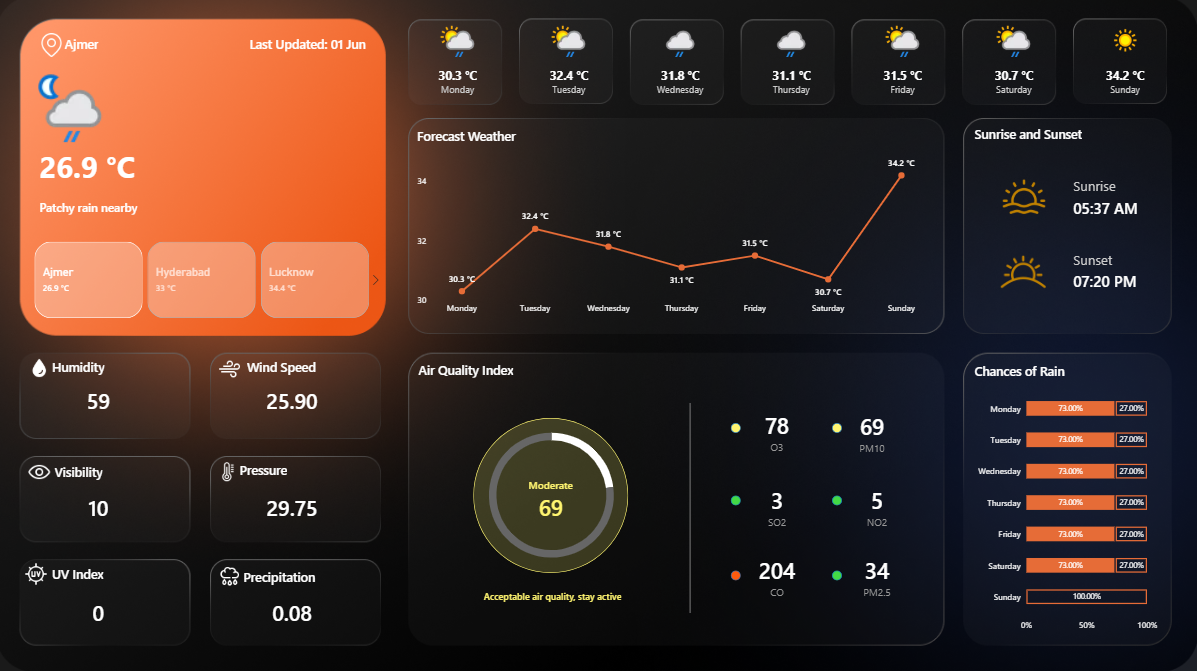

Layout of this report page (visuals, bound fields, positions):
{"tool":"powerbi","page":{"name":"Page 1","canvas":[1920,1080],"ordinal":0},"visuals":[{"type":"shape","box":[762,671,248,248],"z":0},{"type":"advancedSlicerVisual","fields":{"Values":["Location.location.name"]},"box":[40,390,576,122],"z":1000},{"type":"shape","box":[68,234,270,68],"z":2000},{"type":"shape","box":[68,302,472,64],"z":3000},{"type":"shape","box":[108,40,200,64],"z":4000},{"type":"shape","box":[354,40,236,64],"z":5000},{"type":"image","box":[68,40,38,70],"z":6000},{"type":"cardVisual","fields":{"Data":["Min(current.current.condition.icon)"]},"box":[40,86,186,182],"z":7000},{"type":"image","box":[40,737,55,41],"z":8000},{"type":"image","box":[354.4,734.8,31,48],"z":9000},{"type":"shape","box":[92,733,116,48],"z":10000},{"type":"image","box":[354,906.2,37,38],"z":11000},{"type":"image","box":[51,569,31,44],"z":12000},{"type":"image","box":[354,561,36,63],"z":13000},{"type":"image","box":[44.7,900.7,36.7,42.7],"z":14000},{"type":"shape","box":[87,896,116,48],"z":15000},{"type":"shape","box":[400,565,116,48],"z":16000},{"type":"shape","box":[87,565,116,48],"z":17000},{"type":"shape","box":[388.8,730.8,116,48],"z":18000},{"type":"shape","box":[394,901.4,116,48],"z":19000},{"type":"cardVisual","fields":{"Data":["Sum(current.current.humidity)"]},"box":[107.1,602.9,108.6,82.9],"z":20000},{"type":"cardVisual","fields":{"Data":["Sum(current.current.vis_km)"]},"box":[107.1,771.4,108.6,82.9],"z":21000},{"type":"cardVisual","fields":{"Data":["Sum(current.current.pressure_in)"]},"box":[417.1,771.4,108.6,82.9],"z":22000},{"type":"cardVisual","fields":{"Data":["Sum(current.current.wind_kph)"]},"box":[417.1,602.9,108.6,82.9],"z":23000},{"type":"cardVisual","fields":{"Data":["Sum(current.current.uv)"]},"box":[107.1,939,108.6,82.9],"z":24000},{"type":"cardVisual","fields":{"Data":["Sum(current.current.precip_mm)"]},"box":[417.1,939,108.6,82.9],"z":25000},{"type":"advancedSlicerVisual","fields":{"Values":["forecast_day.Day_Name"]},"box":[655,40,1233.3,125],"z":26000},{"type":"lineChart","title":"Forecast Weather","fields":{"Category":["forecast_day.Day_Name"],"Y":["Sum(forecast_day.forecast.forecastday.day.avgtemp_c)"]},"box":[656,192,854,334],"z":27000},{"type":"shape","box":[1564,192,192,48],"z":28000},{"type":"shape","box":[1722,302,168,68],"z":29000},{"type":"shape","box":[1722,418,168,68],"z":30000},{"type":"shape","box":[1722,266,168,68],"z":31000},{"type":"shape","box":[1722,384,168,68],"z":32000},{"type":"image","box":[1562,390,160,96],"z":33000},{"type":"image","box":[1594,283,98,68],"z":34000},{"type":"hundredPercentStackedBarChart","title":"Chances of Rain","fields":{"Category":["forecast_day.Day_Name"],"Y":["Sum(forecast_day.forecast.forecastday.day.daily_chance_of_rain)","_Measures.Left_value_rain"]},"box":[1548.8,568.8,325,465],"z":35000},{"type":"shape","box":[674,570,192,48],"z":36000},{"type":"cardVisual","title":"PM 10","fields":{"Data":["Sum(current.current.air_quality.pm10)"]},"box":[1336,646,128,100],"z":37000},{"type":"cardVisual","title":"PM 10","fields":{"Data":["Sum(current.current.air_quality.no2)"]},"box":[1344,764,128,100],"z":38000},{"type":"cardVisual","title":"PM 10","fields":{"Data":["Sum(current.current.air_quality.pm2_5)"]},"box":[1344,876,128,100],"z":39000},{"type":"cardVisual","title":"PM 10","fields":{"Data":["Sum(current.current.air_quality.co)"]},"box":[1184,876,128,100],"z":40000},{"type":"cardVisual","title":"PM 10","fields":{"Data":["Sum(current.current.air_quality.so2)"]},"box":[1184.4,764,128,100],"z":41000},{"type":"cardVisual","title":"PM 10","fields":{"Data":["Sum(current.current.air_quality.o3)"]},"box":[1184.8,644.8,128,100],"z":42000},{"type":"shape","box":[1336.4,679.2,16,16],"z":43000},{"type":"shape","box":[1173,915.2,16,16],"z":44000},{"type":"shape","box":[1173,796.4,16,16],"z":45000},{"type":"shape","box":[1173,679.2,16,16],"z":46000},{"type":"shape","box":[1336.4,796,16,16],"z":47000},{"type":"shape","box":[1336,915,16,16],"z":48000},{"type":"donutChart","title":"PM 10","fields":{"Y":["Sum(current.current.air_quality.pm10)","_Measures.Left_Value_PM10"]},"box":[742,656,290,280],"z":48500},{"type":"shape","box":[1059.6,648.4,98,336],"z":49000},{"type":"cardVisual","fields":{"Data":["Sum(current.current.air_quality.pm10)"]},"box":[822,768,128,68],"z":50500},{"type":"shape","box":[696,932,386,48],"z":50501}]}

Visuals, with their boxes in screenshot pixels (x1, y1, x2, y2), scaled from the page's 1920x1080 canvas onto the 1197x671 screenshot:
shape: left=475, top=417, right=630, bottom=571
advancedSlicerVisual - Location.location.name: left=25, top=242, right=384, bottom=318
shape: left=42, top=145, right=211, bottom=188
shape: left=42, top=188, right=337, bottom=227
shape: left=67, top=25, right=192, bottom=65
shape: left=221, top=25, right=368, bottom=65
image: left=42, top=25, right=66, bottom=68
cardVisual - Min(current.current.condition.icon): left=25, top=53, right=141, bottom=167
image: left=25, top=458, right=59, bottom=483
image: left=221, top=457, right=240, bottom=486
shape: left=57, top=455, right=130, bottom=485
image: left=221, top=563, right=244, bottom=587
image: left=32, top=354, right=51, bottom=381
image: left=221, top=349, right=243, bottom=388
image: left=28, top=560, right=51, bottom=586
shape: left=54, top=557, right=127, bottom=587
shape: left=249, top=351, right=322, bottom=381
shape: left=54, top=351, right=127, bottom=381
shape: left=242, top=454, right=315, bottom=484
shape: left=246, top=560, right=318, bottom=590
cardVisual - Sum(current.current.humidity): left=67, top=375, right=134, bottom=426
cardVisual - Sum(current.current.vis_km): left=67, top=479, right=134, bottom=531
cardVisual - Sum(current.current.pressure_in): left=260, top=479, right=328, bottom=531
cardVisual - Sum(current.current.wind_kph): left=260, top=375, right=328, bottom=426
cardVisual - Sum(current.current.uv): left=67, top=583, right=134, bottom=635
cardVisual - Sum(current.current.precip_mm): left=260, top=583, right=328, bottom=635
advancedSlicerVisual - forecast_day.Day_Name: left=408, top=25, right=1177, bottom=103
"Forecast Weather" lineChart: left=409, top=119, right=941, bottom=327
shape: left=975, top=119, right=1095, bottom=149
shape: left=1074, top=188, right=1178, bottom=230
shape: left=1074, top=260, right=1178, bottom=302
shape: left=1074, top=165, right=1178, bottom=208
shape: left=1074, top=239, right=1178, bottom=281
image: left=974, top=242, right=1074, bottom=302
image: left=994, top=176, right=1055, bottom=218
"Chances of Rain" hundredPercentStackedBarChart: left=966, top=353, right=1168, bottom=642
shape: left=420, top=354, right=540, bottom=384
"PM 10" cardVisual: left=833, top=401, right=913, bottom=463
"PM 10" cardVisual: left=838, top=475, right=918, bottom=537
"PM 10" cardVisual: left=838, top=544, right=918, bottom=606
"PM 10" cardVisual: left=738, top=544, right=818, bottom=606
"PM 10" cardVisual: left=738, top=475, right=818, bottom=537
"PM 10" cardVisual: left=739, top=401, right=818, bottom=463
shape: left=833, top=422, right=843, bottom=432
shape: left=731, top=569, right=741, bottom=579
shape: left=731, top=495, right=741, bottom=505
shape: left=731, top=422, right=741, bottom=432
shape: left=833, top=495, right=843, bottom=504
shape: left=833, top=568, right=843, bottom=578
"PM 10" donutChart: left=463, top=408, right=643, bottom=582
shape: left=661, top=403, right=722, bottom=612
cardVisual - Sum(current.current.air_quality.pm10): left=512, top=477, right=592, bottom=519
shape: left=434, top=579, right=675, bottom=609
